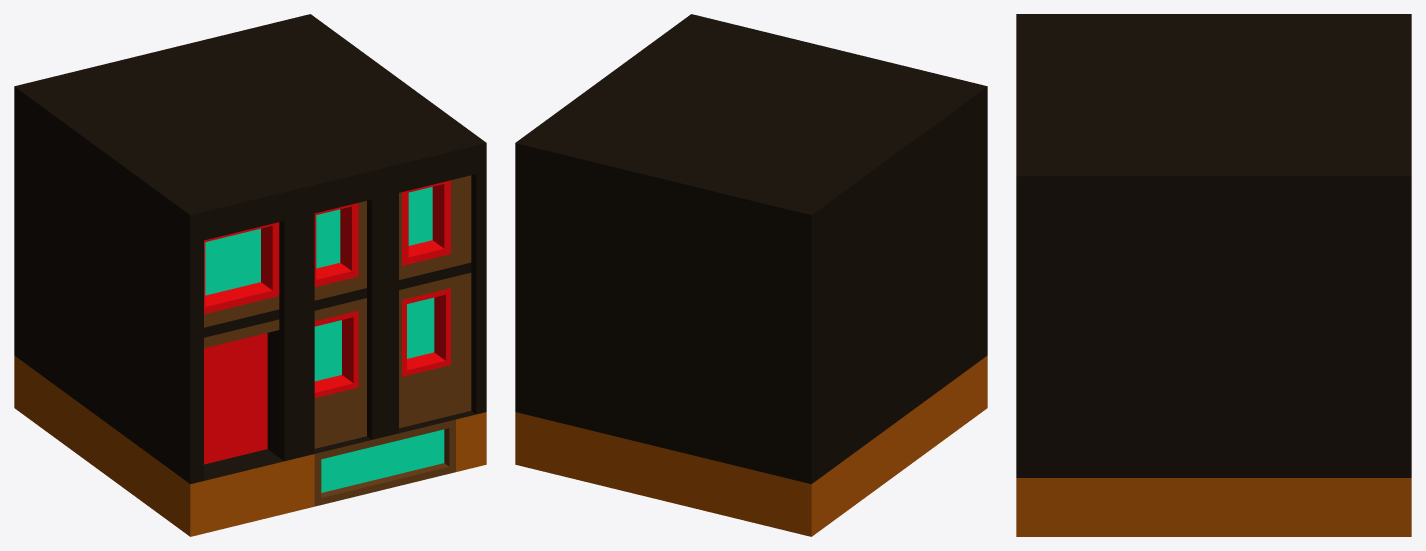
The model's file is MOD_BatB.FBX.
The picture shows the model from 3 angles, left to right: view 1: azimuth 30°, elevation 25°; view 2: azimuth 150°, elevation 25°; view 3: azimuth 270°, elevation 25°; orthographic projection. The views are drawn at different scales.
Parts seen in each view (by area): view 1: Batiment_B; view 2: Batiment_B; view 3: Batiment_B.
Part boxes in pixels (x1,y1,x2,y2): Batiment_B: [14, 14, 486, 536]; Batiment_B: [515, 14, 987, 536]; Batiment_B: [1016, 14, 1411, 536].
Size of the model in its own units: 30 by 31.11 by 30.89.
